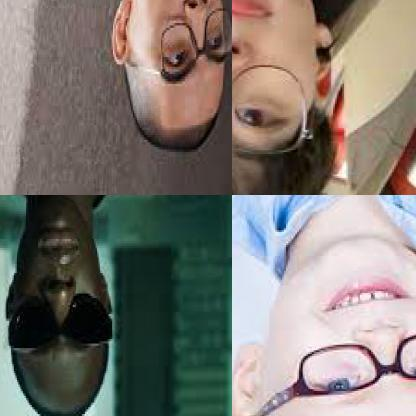glasses: (232, 36, 319, 162), (281, 336, 415, 399), (6, 285, 116, 359), (160, 8, 231, 73)
